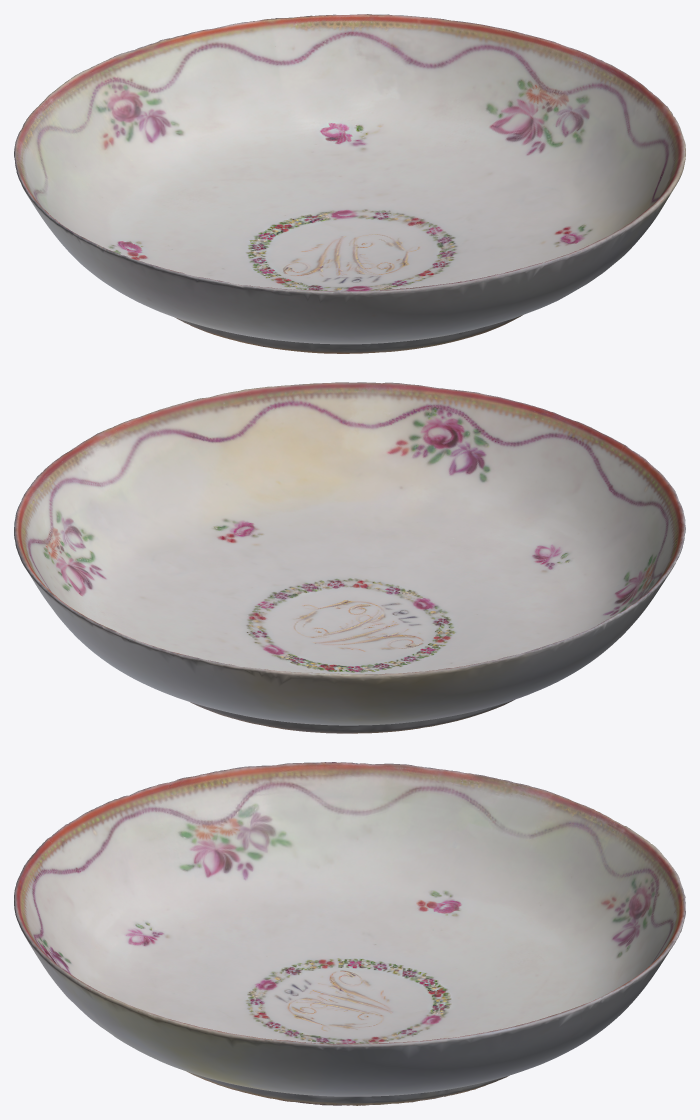
Rendered from 彩花卉纹描金徽章碟.fbx.
The picture shows the model from 3 angles, top to bottom: view 1: azimuth 30°, elevation 25°; view 2: azimuth 150°, elevation 25°; view 3: azimuth 270°, elevation 25°; orthographic projection.
Parts seen in each view (by area): view 1: default; view 2: default; view 3: default.
Part boxes in pixels (x1,y1,x2,y2): default: (14, 14, 685, 353); default: (14, 382, 685, 733); default: (14, 762, 685, 1105).
Size of the model in its own units: 15.24 by 3.07 by 15.23.
1 material, 1 textured.
